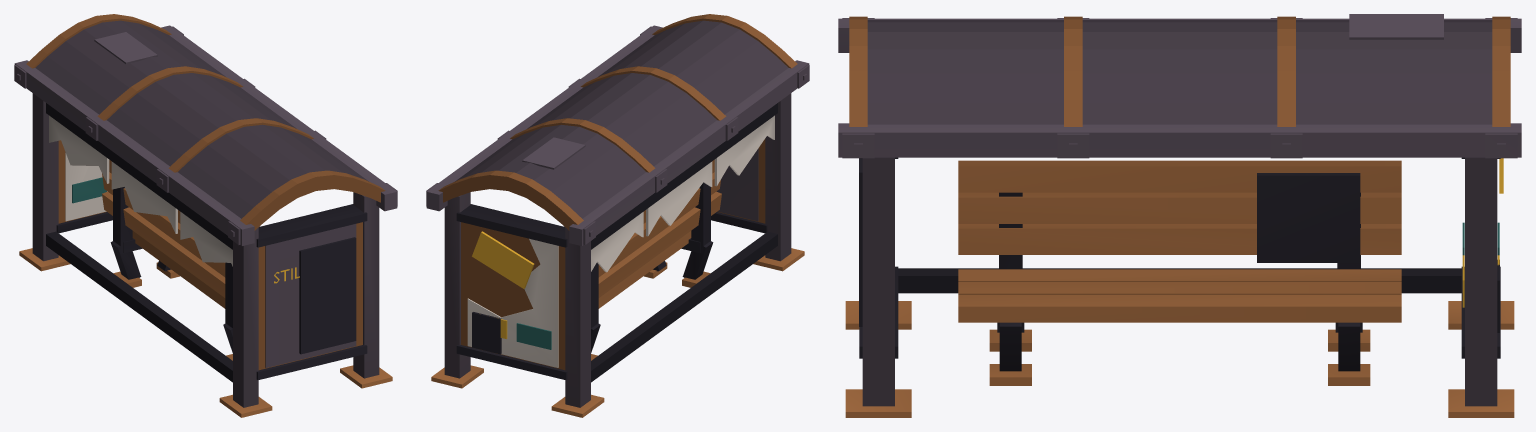
File: bld.bus-stop.w3.lod2.glb
The picture shows the model from 3 angles, left to right: view 1: azimuth 30°, elevation 25°; view 2: azimuth 150°, elevation 25°; view 3: azimuth 270°, elevation 25°; orthographic projection. The views are drawn at different scales.
Visible parts, largest first — view 1: body, roof; view 2: body, roof; view 3: body, roof.
Part boxes in pixels (x1,y1,x2,y2): body: (19,93,392,417); roof: (14,14,397,245); body: (431,93,804,417); roof: (426,14,809,245); body: (845,157,1514,417); roof: (838,14,1521,158).
Bounding box in the file's own units: 2.04 × 2.68 × 4.97.
